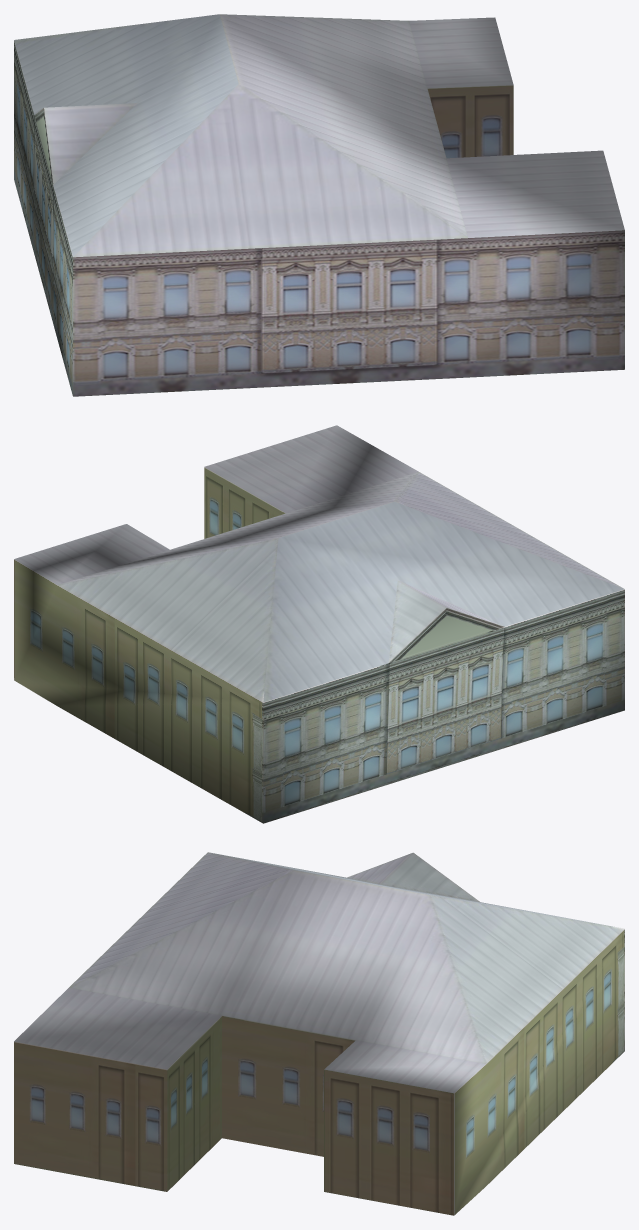
Rendered from lp-building26.fbx.
3 renders of one model, top to bottom at view 1: azimuth 30°, elevation 25°; view 2: azimuth 150°, elevation 25°; view 3: azimuth 270°, elevation 25°, orthographic. The views are drawn at different scales.
Parts seen in each view (by area): view 1: 01houses.017; view 2: 01houses.017; view 3: 01houses.017.
Boxes of the visible parts, box(x1,y1,x2,y2) form: 01houses.017: box(14, 14, 624, 396); 01houses.017: box(14, 425, 624, 823); 01houses.017: box(14, 852, 624, 1215).
Size of the model in its own units: 997 by 379 by 1068.
1 material, 1 textured.
